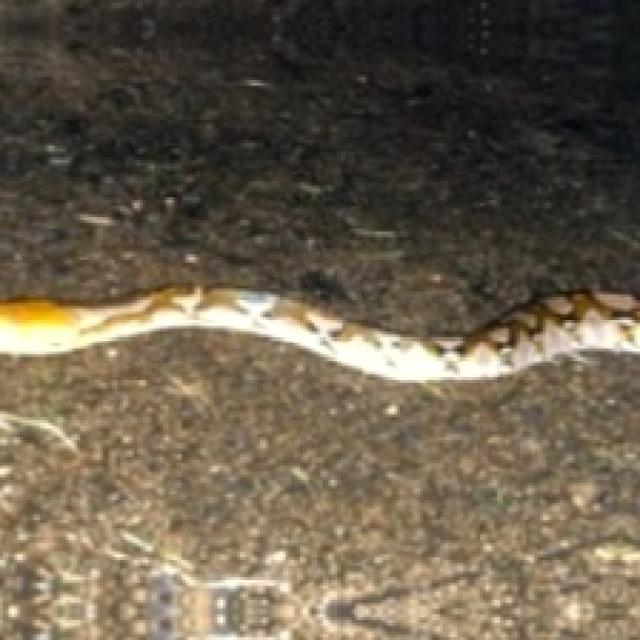reticulated python: (0, 286, 637, 380)
